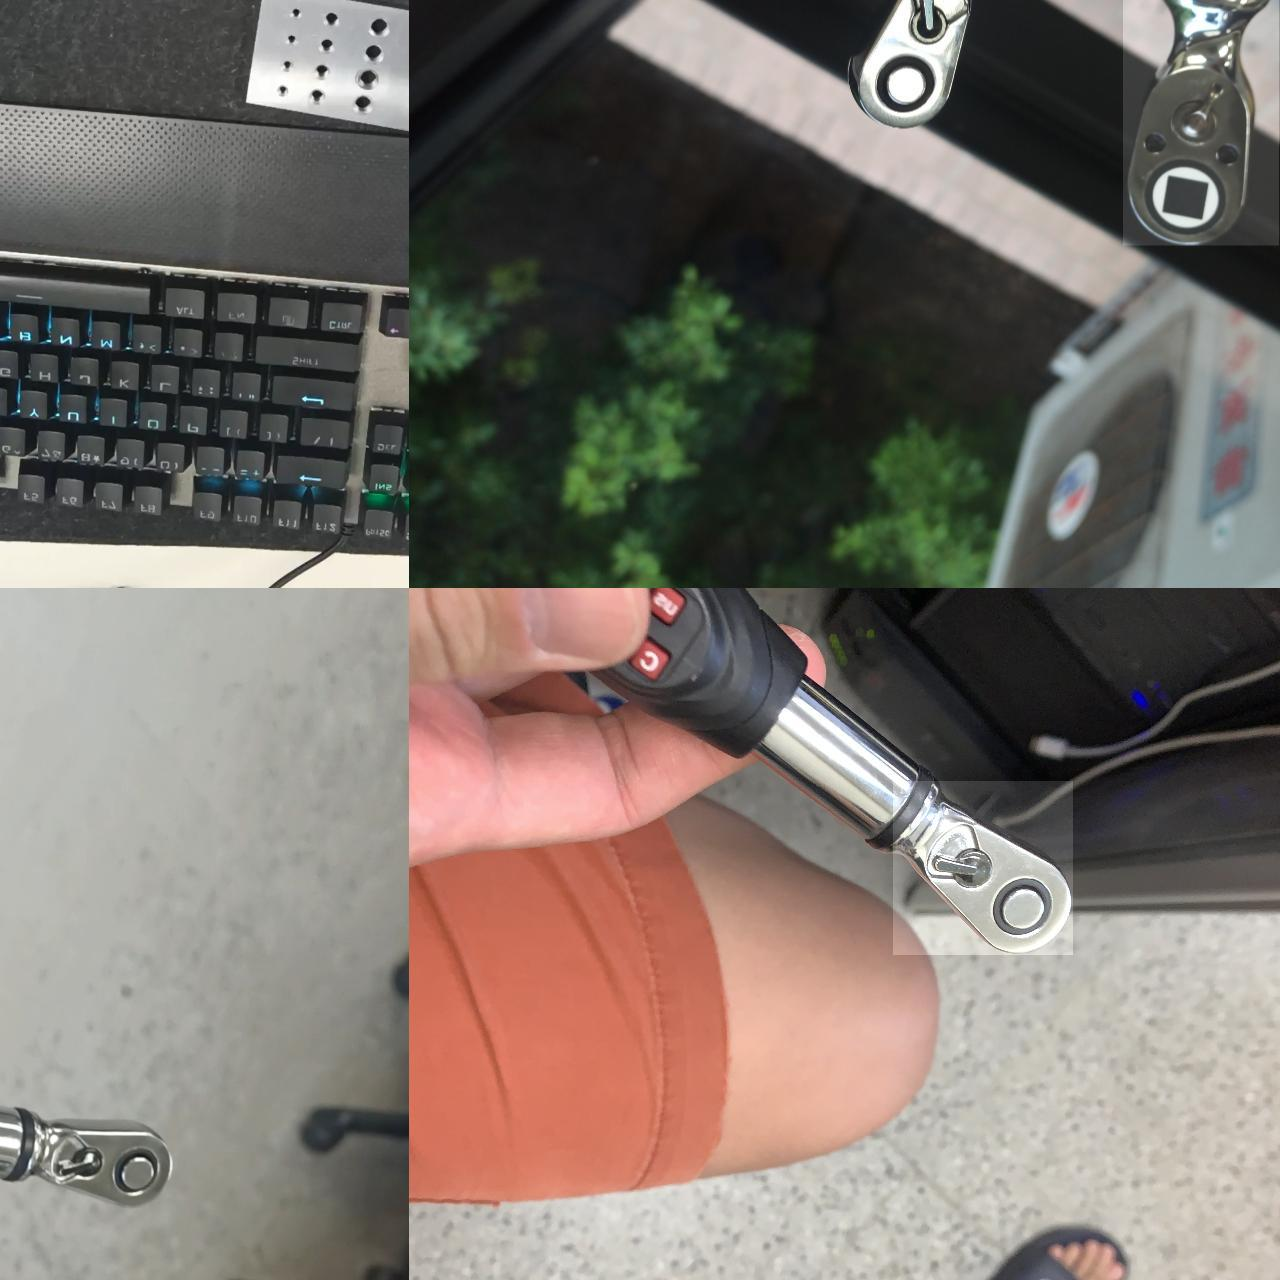Tool: (1123, 0, 1279, 245), (893, 781, 1073, 955), (849, 0, 990, 130), (23, 1122, 170, 1218)
